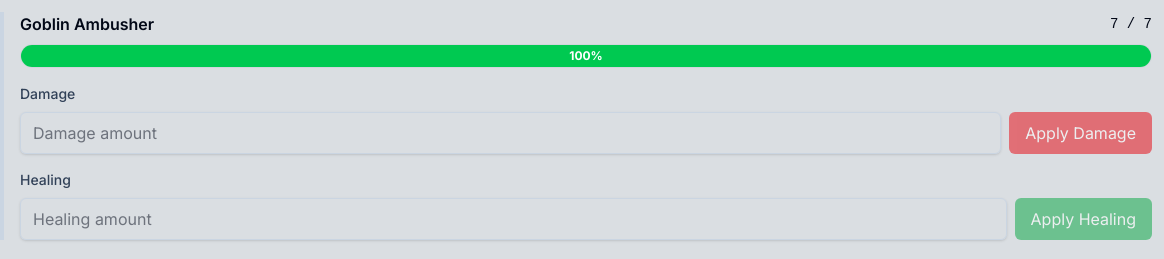
HPTracker Component › Healing Input Validation › should enable healing button when valid amount entered
Step 1. Type "5" into the number field with placeholder "Healing amount" → (513, 219), box [20, 198, 1006, 240]
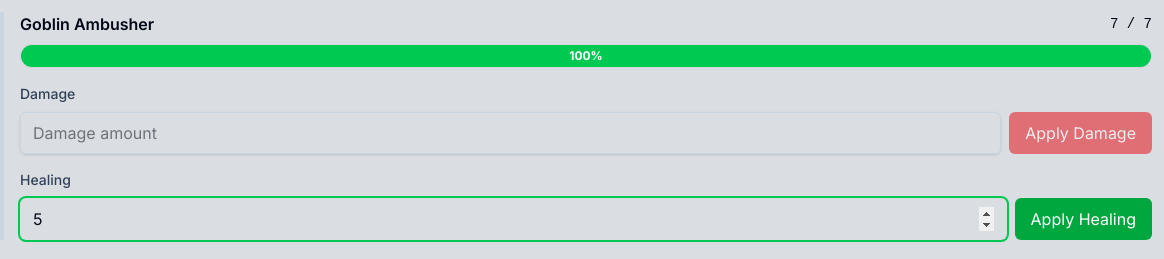
Expected: the button "Apply Healing" is enabled, [1014, 198, 1152, 240]
